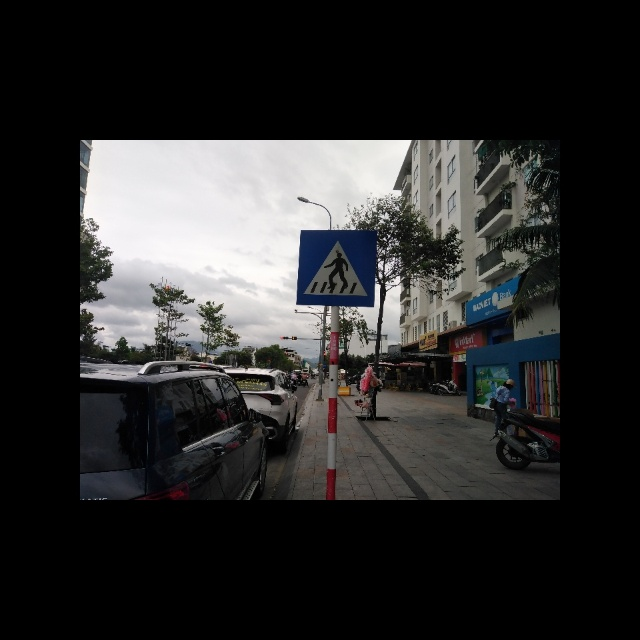Đường dành cho người đi bộ: (300, 229, 375, 307)
